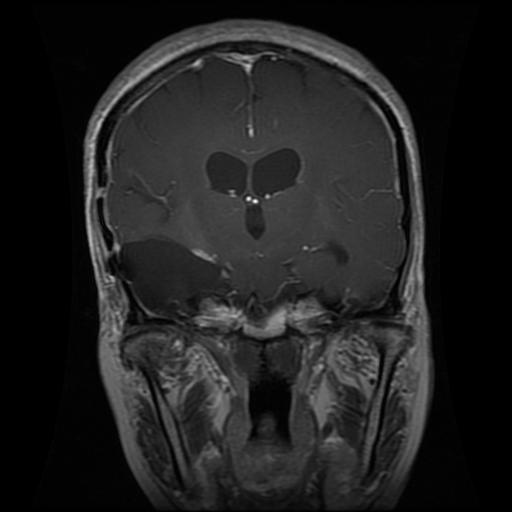Gliomia_tumour: (117, 231, 235, 316)
